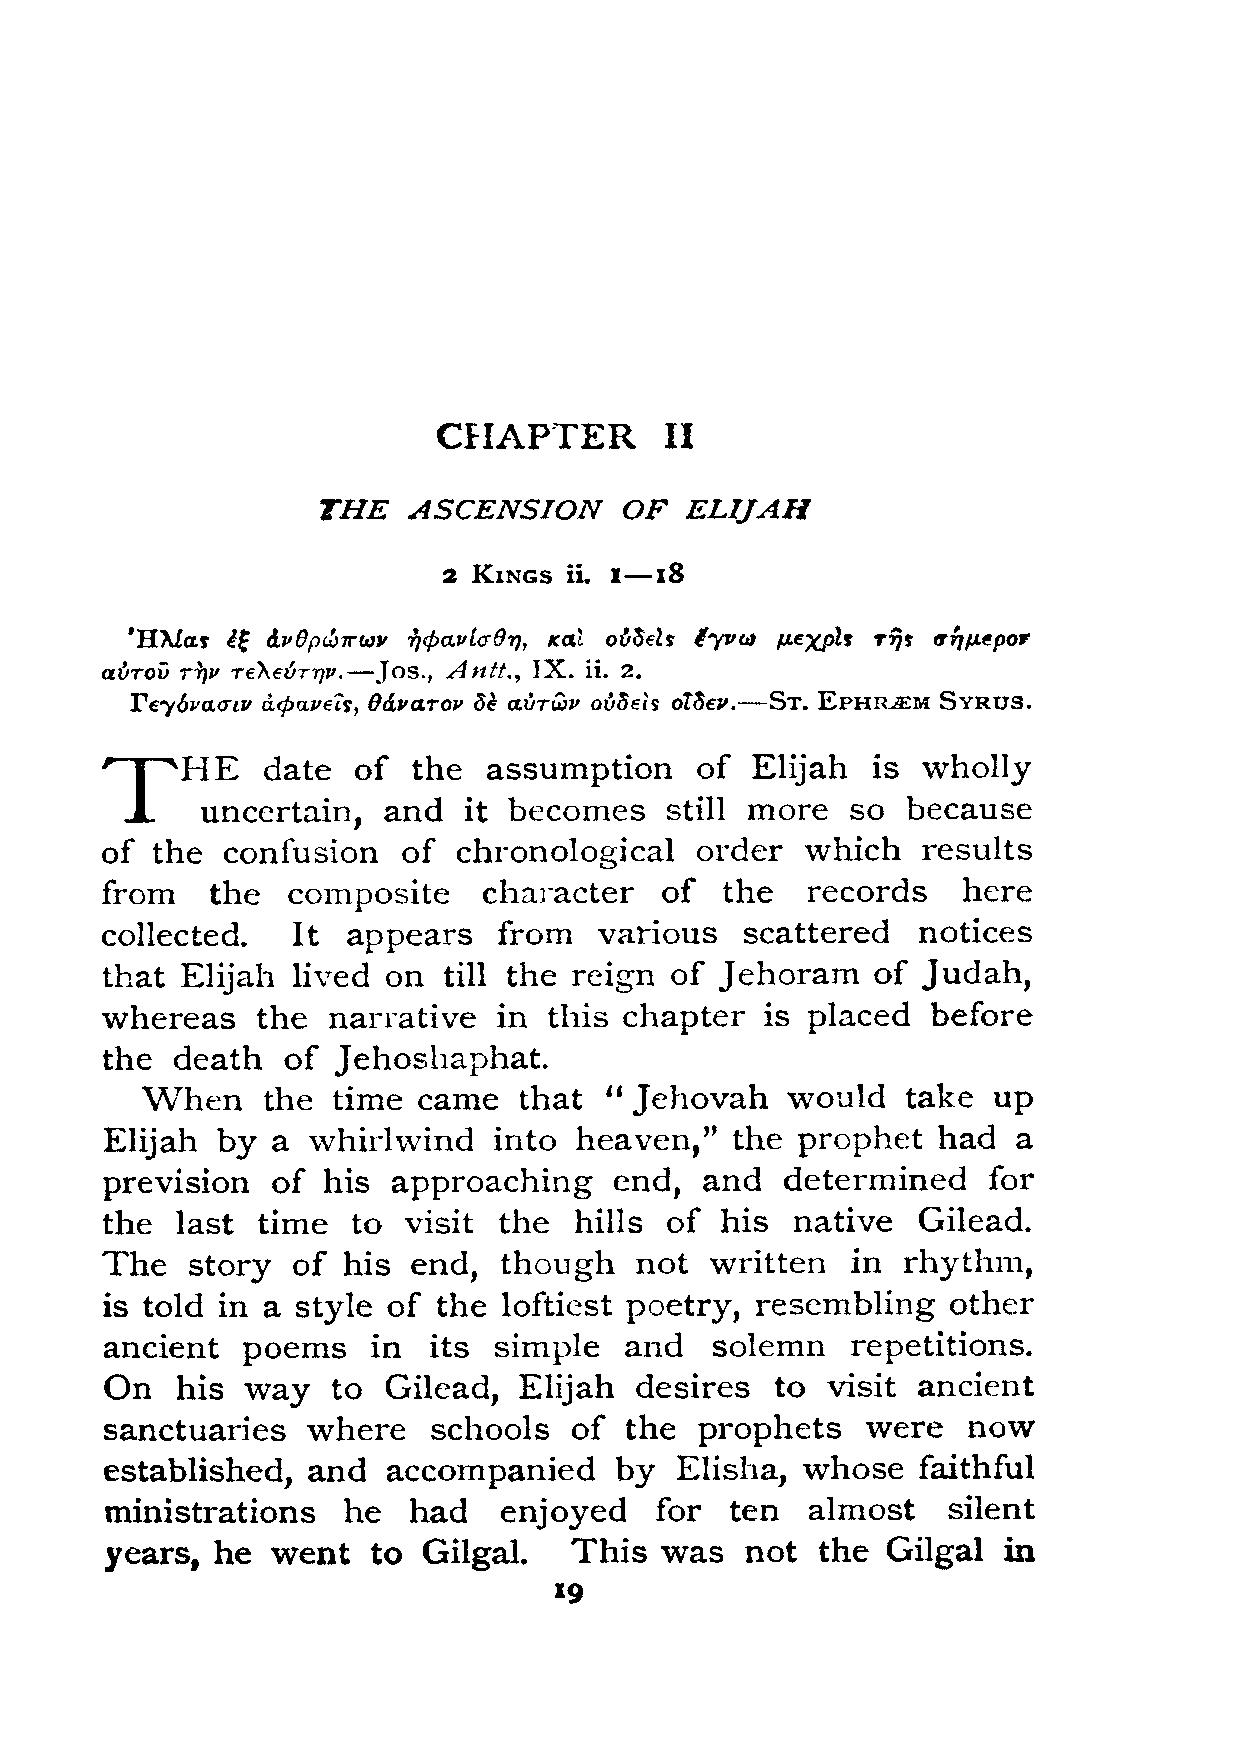chapter: (311, 421, 811, 586)
content: (94, 621, 1035, 1573)
content_pagenumber: (550, 1578, 586, 1610)
